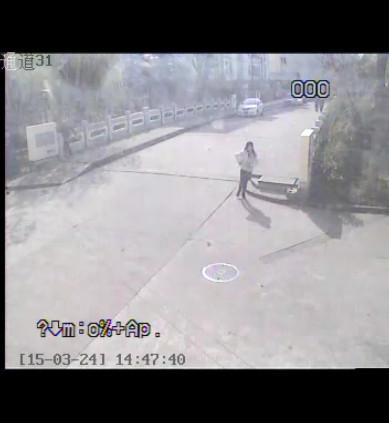person: (230, 139, 261, 201), (57, 119, 79, 163)
